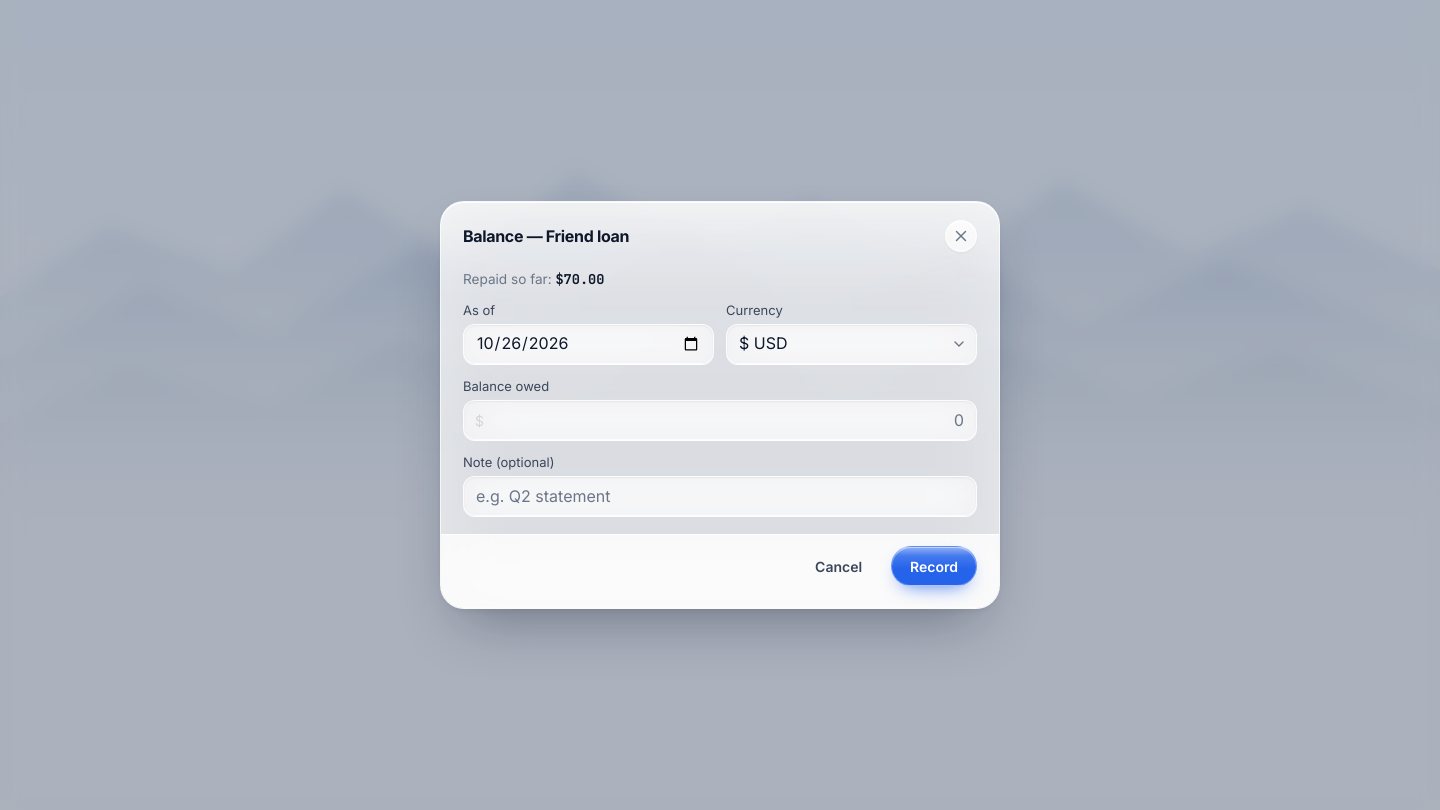
Test case: ValuationModal › asks for the balance when the field is left empty
The image size is (1440, 810).
Click the button "Record". click: (934, 566)
box: [891,546,977,586]
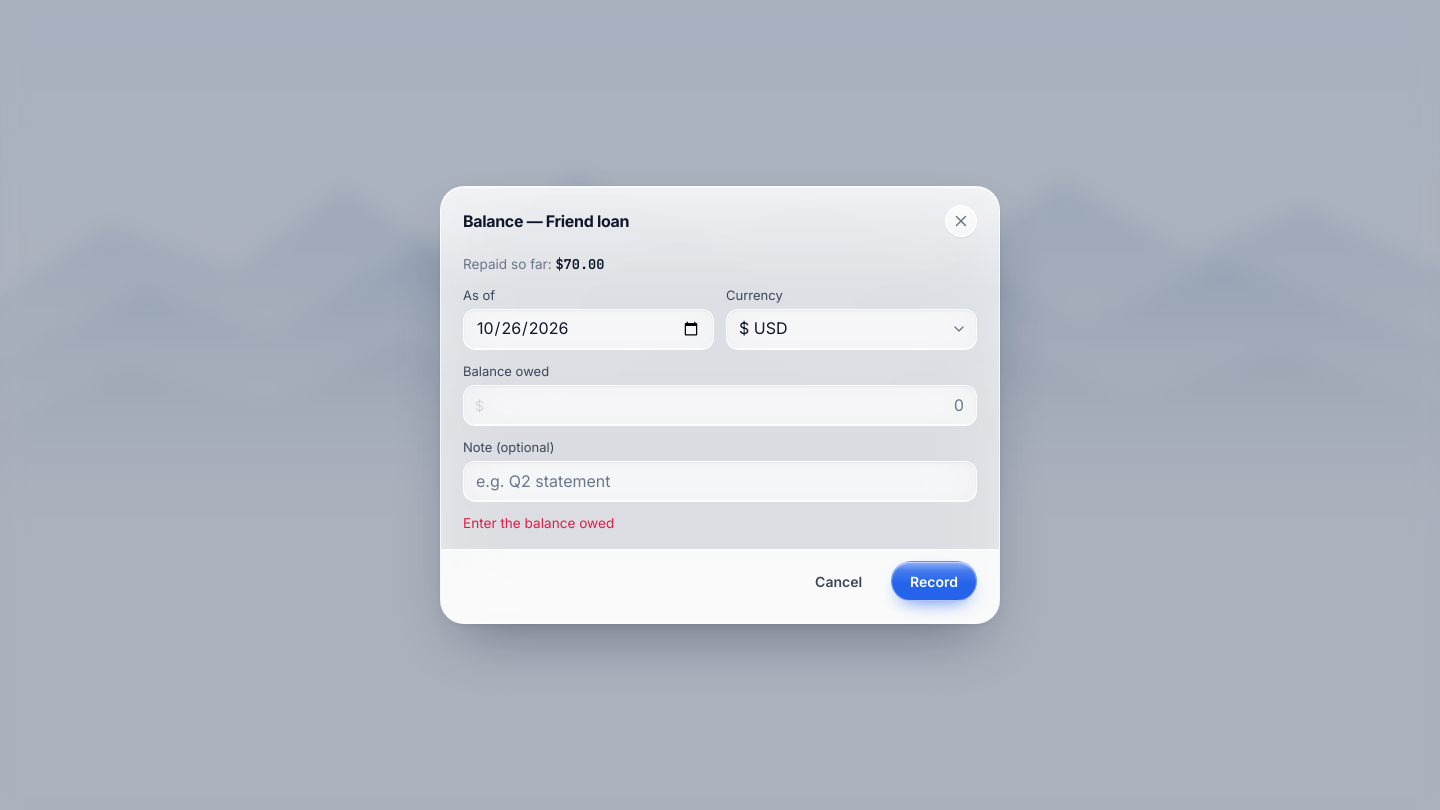
Now the text "Enter the balance owed" is shown, box [463,515,614,531]
